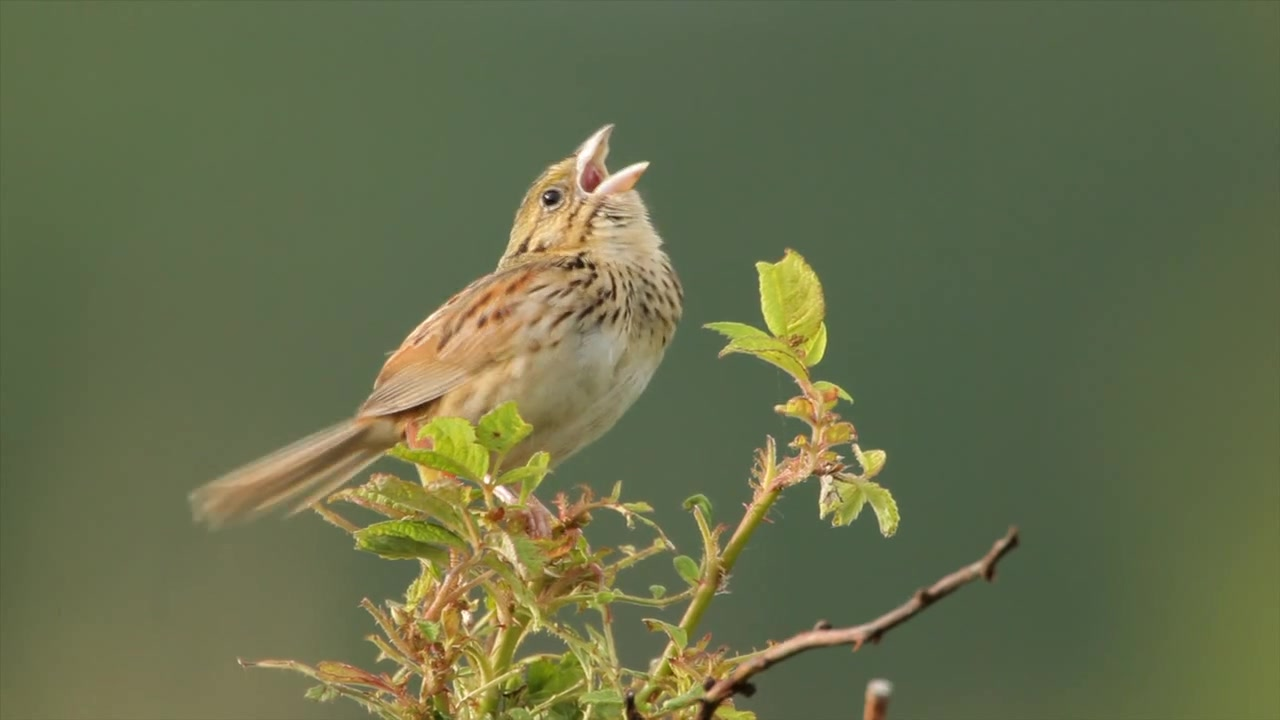bird: (189, 123, 686, 540)
